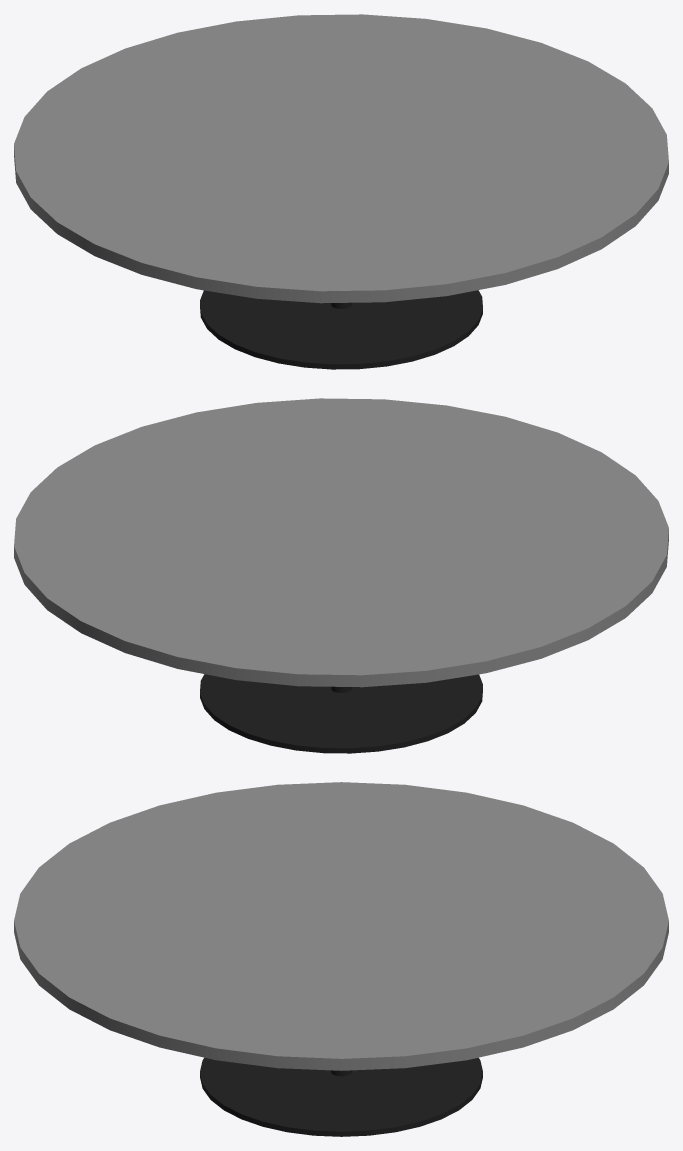
File: Table_Round.fbx
3 renders of one model, top to bottom at view 1: azimuth 30°, elevation 25°; view 2: azimuth 150°, elevation 25°; view 3: azimuth 270°, elevation 25°, orthographic.
Parts seen in each view (by area): view 1: Table_Round, Table_Round.001; view 2: Table_Round, Table_Round.001; view 3: Table_Round, Table_Round.001.
Boxes of the visible parts, x1,y1,x2,y2 form: Table_Round: (14, 14, 668, 303); Table_Round.001: (200, 290, 482, 369); Table_Round: (14, 398, 668, 687); Table_Round.001: (200, 674, 482, 753); Table_Round: (14, 782, 668, 1070); Table_Round.001: (200, 1057, 482, 1136).
Bounding box in the file's own units: 370 × 97.45 × 370.
Materials: 1 (1 with a texture image).
